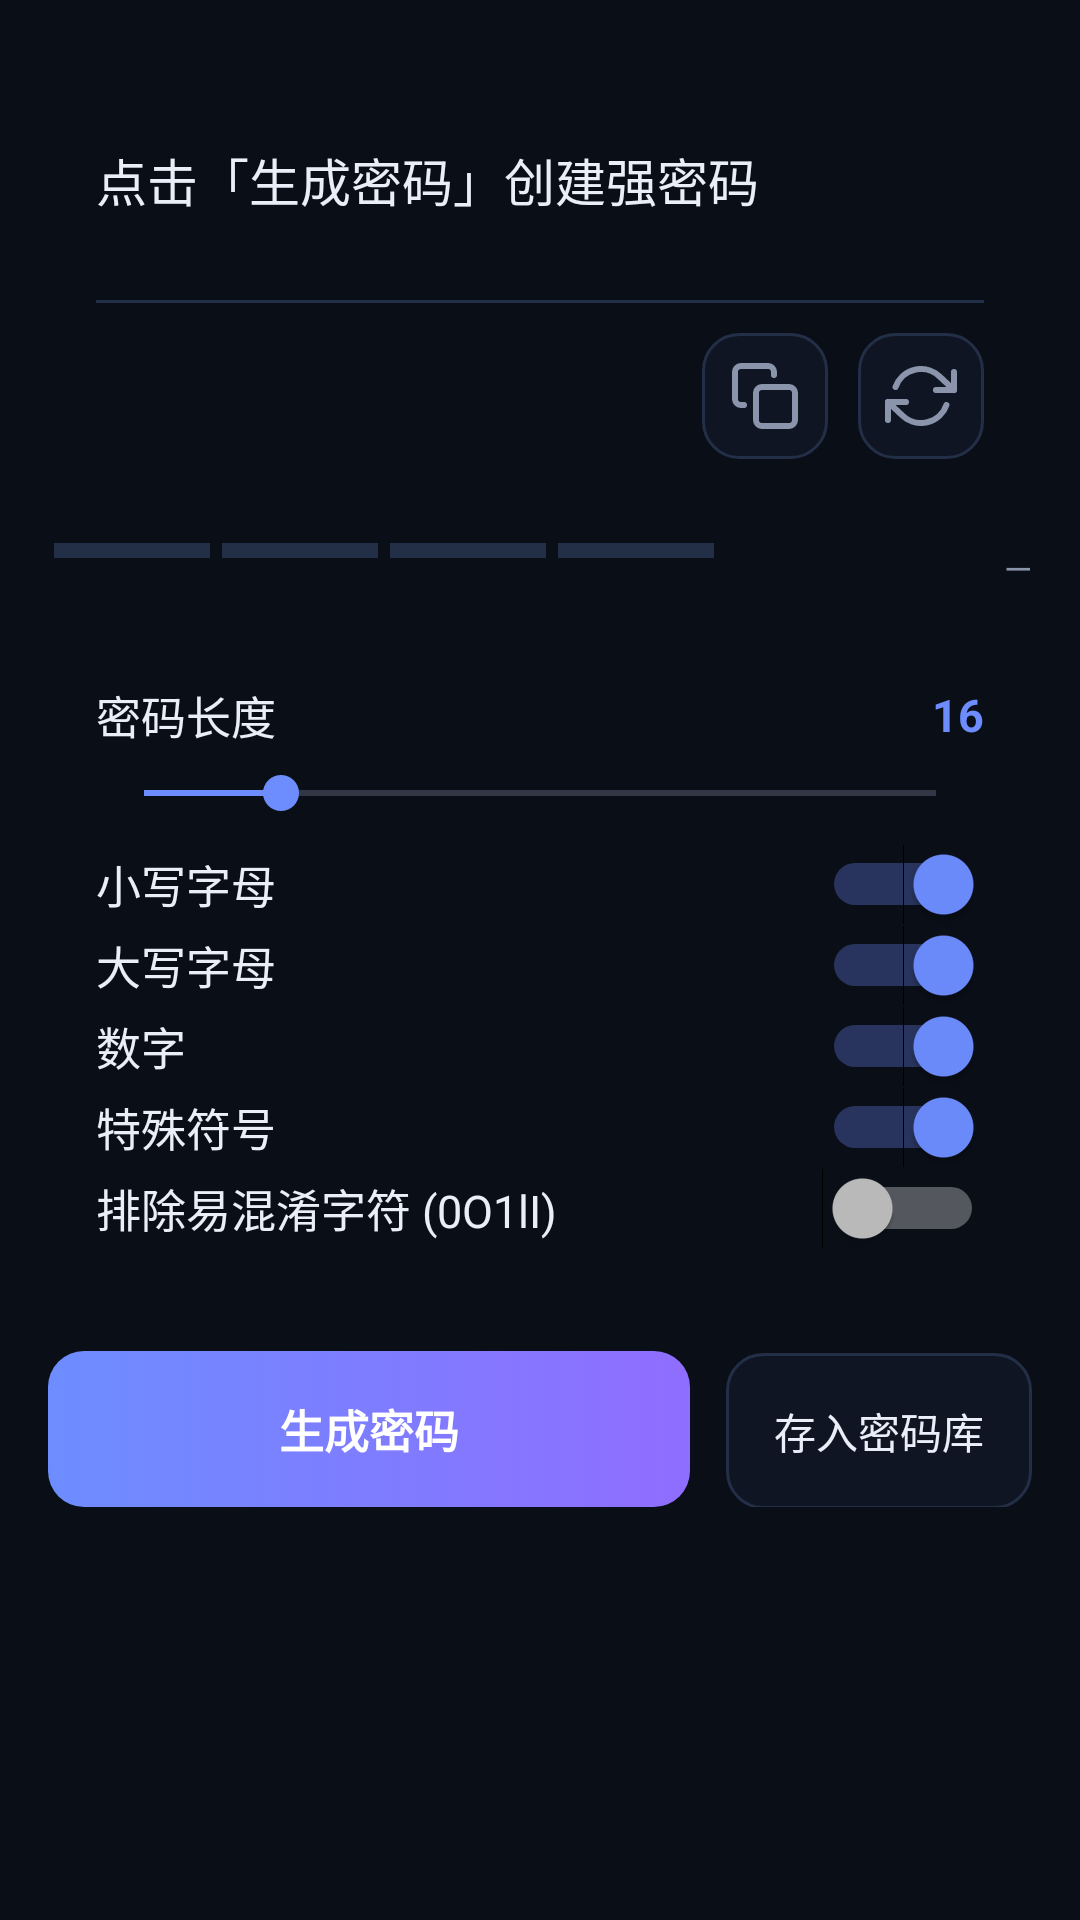

Screen size 1080px x 1920px. Icon name, then its center in pixels as [x,y]:
复制: [765,396]
重新生成: [921,396]
